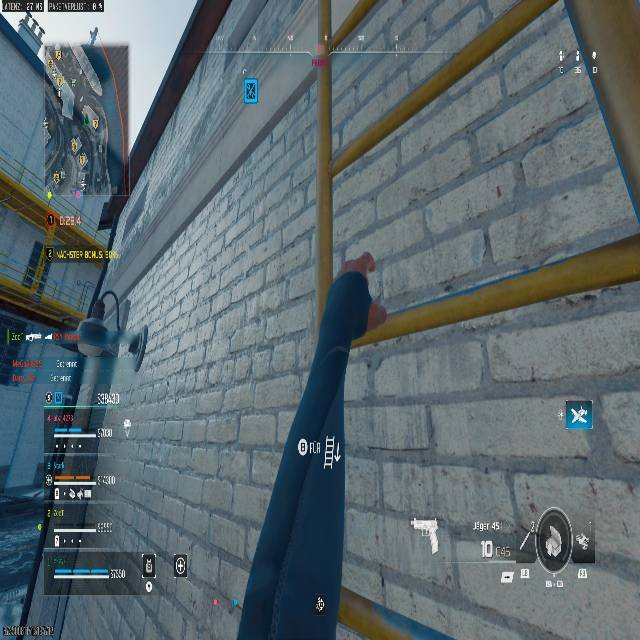head: (341, 251, 376, 279)
